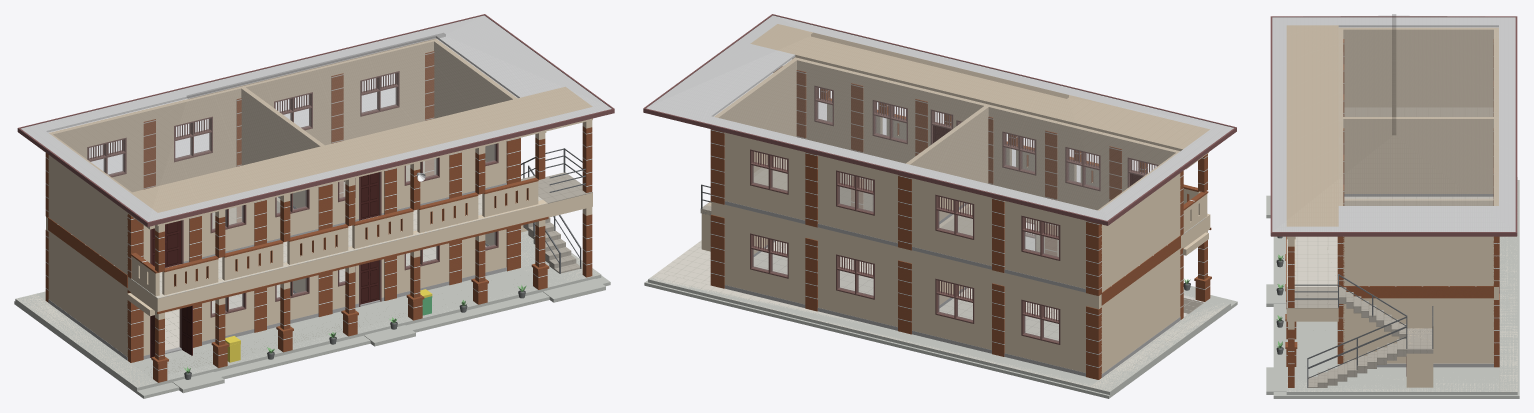
Rendered from gedung_kelas_belakang_cutaway.glb.
3 renders of one model, left to right at view 1: azimuth 30°, elevation 25°; view 2: azimuth 150°, elevation 25°; view 3: azimuth 270°, elevation 25°, orthographic. The views are drawn at different scales.
Visible parts, largest first — view 1: Dinding_Krem_Persik, Pilaster_Dan_Tiang_Terracotta, Curb_Dan_Tangga_Beton, Plafon_Soffit_Dan_Speaker_PA, Kusen_Pintu_Jendela_Coklat, Lisplang_Marun_Gelap, Kaca_Jendela_Transparan, Daun_Pintu_Panel_Kayu, Selasar_Dan_Lantai_1F_Putih, Anak_Tangga_Keramik_Abu, Plint_Dinding_Abu, Balkon_Lantai_2_Krem (+3 smaller); view 2: Dinding_Krem_Persik, Pilaster_Dan_Tiang_Terracotta, Plafon_Soffit_Dan_Speaker_PA, Kusen_Pintu_Jendela_Coklat, Curb_Dan_Tangga_Beton, Selasar_Dan_Lantai_1F_Putih, Kaca_Jendela_Transparan, Lisplang_Marun_Gelap, Plint_Dinding_Abu, Lantai_2_Kelas_Kosong, Atap_Genteng_Gelap_Charcoal; view 3: Dinding_Krem_Persik, Plafon_Soffit_Dan_Speaker_PA, Curb_Dan_Tangga_Beton, Pilaster_Dan_Tiang_Terracotta, Anak_Tangga_Keramik_Abu, Lisplang_Marun_Gelap, Lantai_2_Kelas_Kosong, Balkon_Lantai_2_Krem, Selasar_Dan_Lantai_1F_Putih, Railing_Besi_Tangga_Hitam, Plint_Dinding_Abu, Atap_Genteng_Gelap_Charcoal.
Boxes of the visible parts, box(x1,y1,x2,y2) form: Dinding_Krem_Persik: box(46, 38, 592, 356); Pilaster_Dan_Tiang_Terracotta: box(45, 51, 592, 382); Curb_Dan_Tangga_Beton: box(14, 231, 610, 398); Plafon_Soffit_Dan_Speaker_PA: box(21, 15, 611, 221); Kusen_Pintu_Jendela_Coklat: box(87, 71, 498, 357); Lisplang_Marun_Gelap: box(17, 14, 614, 226); Kaca_Jendela_Transparan: box(92, 88, 495, 314); Daun_Pintu_Panel_Kayu: box(150, 172, 379, 357); Selasar_Dan_Lantai_1F_Putih: box(15, 231, 600, 387); Anak_Tangga_Keramik_Abu: box(521, 172, 592, 273); Plint_Dinding_Abu: box(48, 183, 506, 360); Balkon_Lantai_2_Krem: box(130, 194, 547, 298); Dinding_Krem_Persik: box(701, 24, 1210, 373); Pilaster_Dan_Tiang_Terracotta: box(710, 66, 1211, 379); Plafon_Soffit_Dan_Speaker_PA: box(646, 15, 1233, 220); Kusen_Pintu_Jendela_Coklat: box(750, 85, 1158, 344); Curb_Dan_Tangga_Beton: box(644, 242, 1237, 398); Selasar_Dan_Lantai_1F_Putih: box(649, 240, 1230, 392); Kaca_Jendela_Transparan: box(752, 102, 1098, 341); Lisplang_Marun_Gelap: box(643, 14, 1236, 225); Plint_Dinding_Abu: box(724, 201, 1180, 377); Lantai_2_Kelas_Kosong: box(754, 157, 1058, 256); Atap_Genteng_Gelap_Charcoal: box(811, 32, 1068, 98); Dinding_Krem_Persik: box(1286, 25, 1498, 387); Plafon_Soffit_Dan_Speaker_PA: box(1272, 17, 1515, 231); Curb_Dan_Tangga_Beton: box(1266, 177, 1519, 398); Pilaster_Dan_Tiang_Terracotta: box(1285, 39, 1499, 387); Anak_Tangga_Keramik_Abu: box(1286, 287, 1433, 387); Lisplang_Marun_Gelap: box(1270, 16, 1517, 236); Lantai_2_Kelas_Kosong: box(1345, 108, 1492, 205); Balkon_Lantai_2_Krem: box(1286, 236, 1337, 286); Selasar_Dan_Lantai_1F_Putih: box(1287, 181, 1517, 392); Railing_Besi_Tangga_Hitam: box(1294, 274, 1433, 387); Plint_Dinding_Abu: box(1344, 194, 1493, 367); Atap_Genteng_Gelap_Charcoal: box(1340, 14, 1447, 135).
Bounding box in the file's own units: 19.26 × 9.02 × 9.49.
21 materials, 8 textured.
